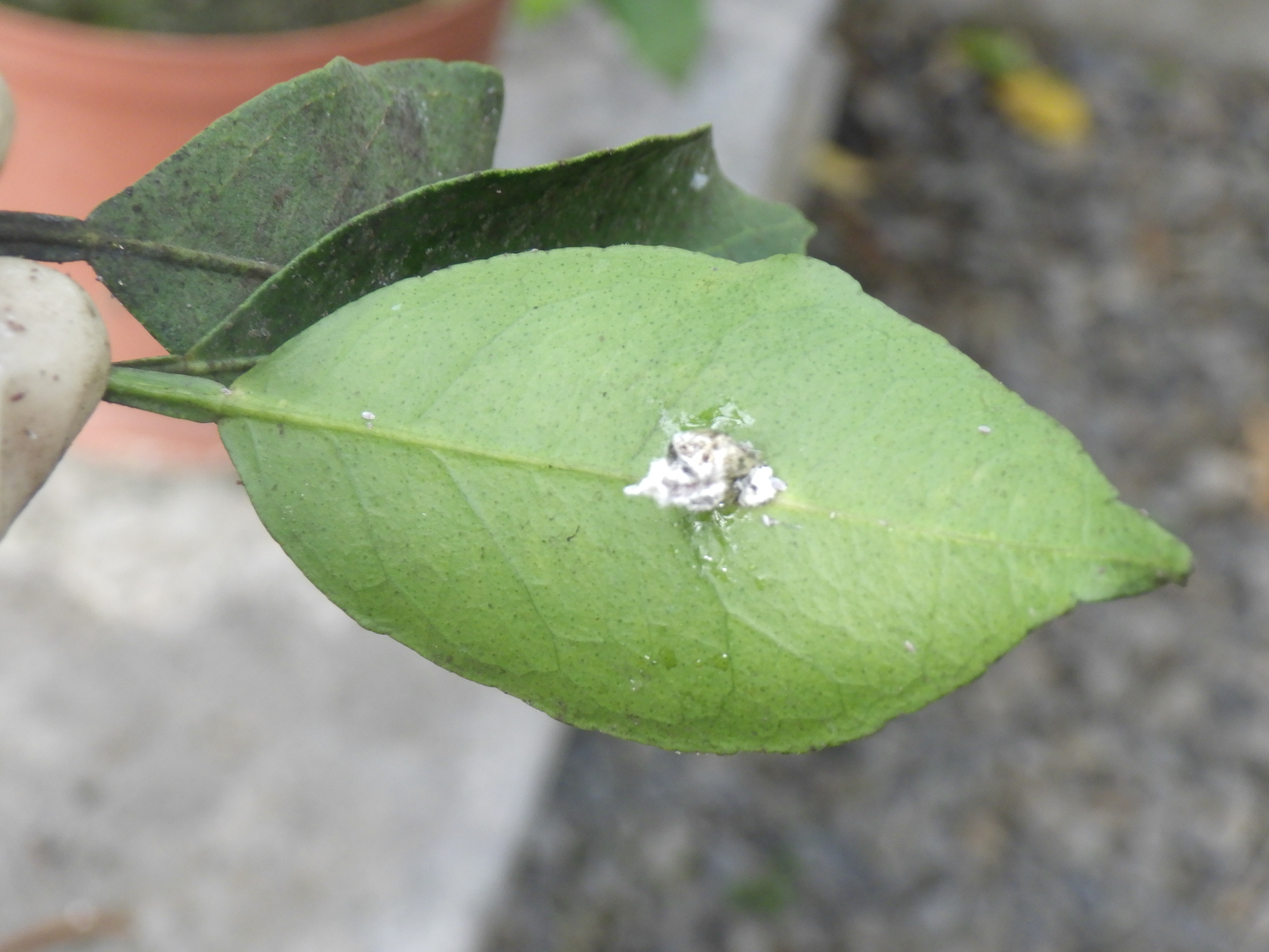Scale_Insect: (624, 430, 787, 512)
